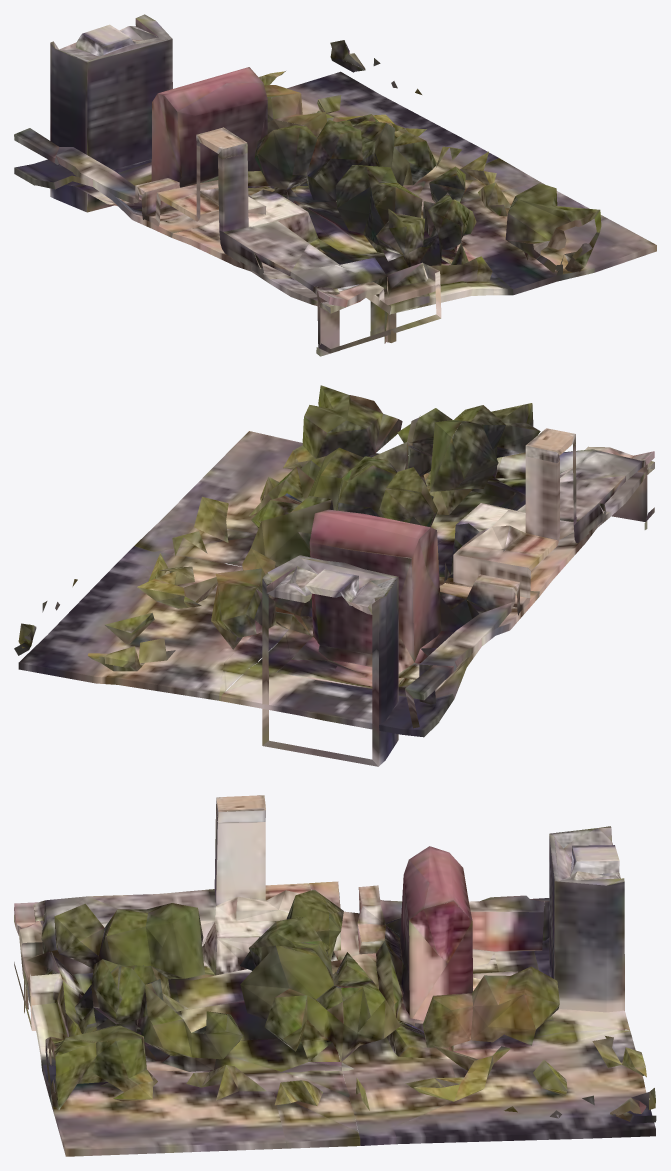
The picture shows the model from 3 angles, top to bottom: view 1: azimuth 30°, elevation 25°; view 2: azimuth 150°, elevation 25°; view 3: azimuth 270°, elevation 25°; orthographic projection. The views are drawn at different scales.
Visible parts, largest first — view 1: Mesh_0; view 2: Mesh_0; view 3: Mesh_0.
Boxes of the visible parts, bbox=[...] form: Mesh_0: bbox=[14, 14, 656, 356]; Mesh_0: bbox=[14, 385, 654, 766]; Mesh_0: bbox=[14, 795, 656, 1156].
Size of the model in its own units: 133 by 56.51 by 165.
Materials: 2 (2 with a texture image).
